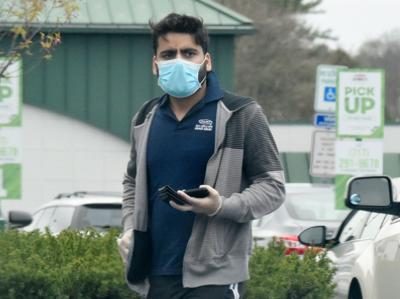with_mask: (143, 21, 220, 100)
